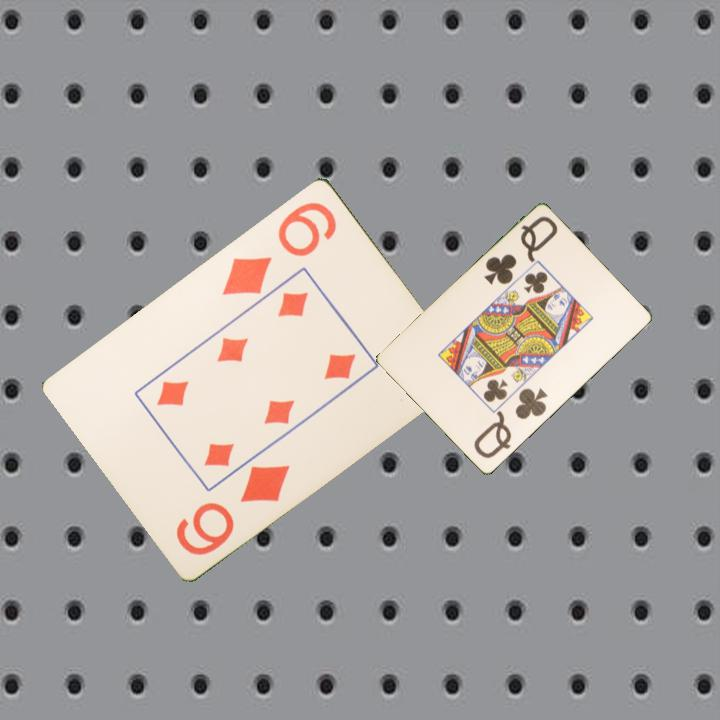6d: (218, 197, 340, 298), (172, 460, 293, 558)
Qc: (470, 385, 551, 462), (480, 213, 561, 288)
